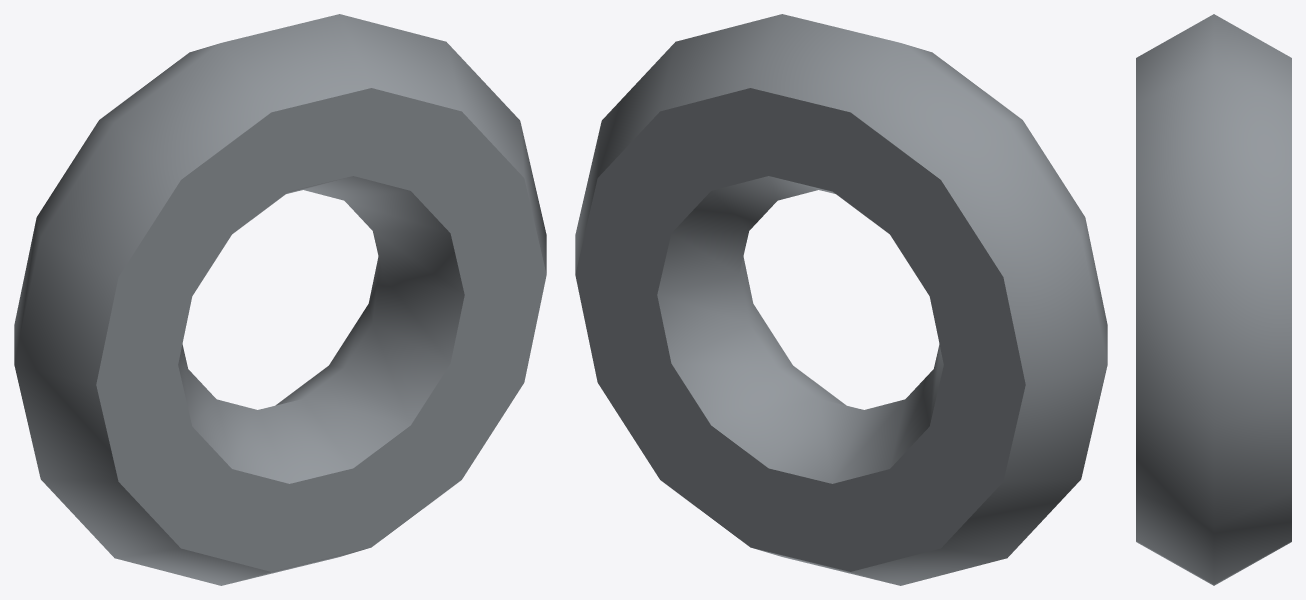
Rendered from SM_Flot_Cinta.fbx.
3 views of the same model, side by side, from view 1: azimuth 30°, elevation 25°; view 2: azimuth 150°, elevation 25°; view 3: azimuth 270°, elevation 25° (orthographic). The views are drawn at different scales.
Parts seen in each view (by area): view 1: SM_Flot_Cinta; view 2: SM_Flot_Cinta; view 3: SM_Flot_Cinta.
Part boxes in pixels (box(x1,y1,x2,y2)): SM_Flot_Cinta: box(14, 14, 546, 585); SM_Flot_Cinta: box(575, 14, 1107, 585); SM_Flot_Cinta: box(1136, 14, 1291, 585).
Size of the model in its own units: 0.13 by 0.1267 by 0.0346.
